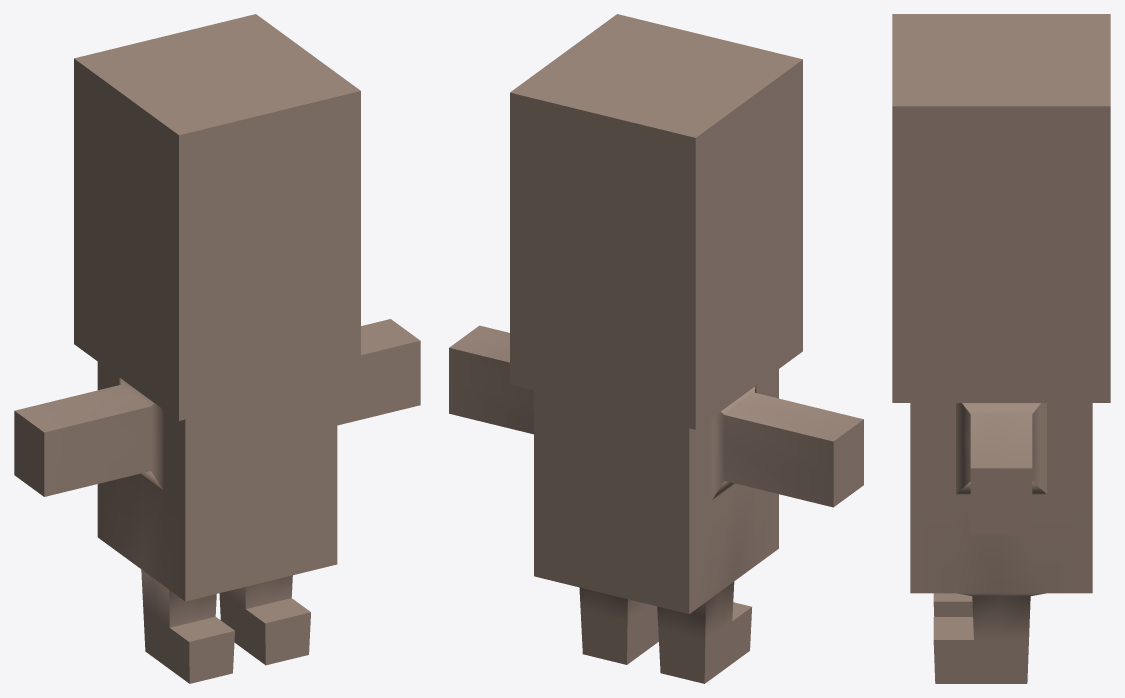
File: Microbot_01.fbx
3 views of the same model, side by side, from view 1: azimuth 30°, elevation 25°; view 2: azimuth 150°, elevation 25°; view 3: azimuth 270°, elevation 25° (orthographic). The views are drawn at different scales.
Parts seen in each view (by area): view 1: santaiichi; view 2: santaiichi; view 3: santaiichi.
Part boxes in pixels (<box>): santaiichi: <box>14,14,420,683</box>; santaiichi: <box>449,14,863,683</box>; santaiichi: <box>892,14,1110,683</box>.
Bounding box in the file's own units: 2.07 × 3 × 1.
